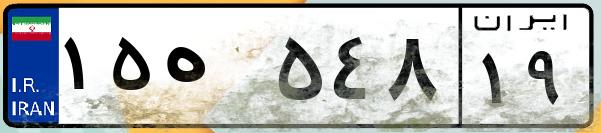1: (57, 26, 110, 100), (475, 38, 525, 113)
4: (330, 28, 385, 110)
5: (270, 28, 330, 110), (110, 28, 158, 98)
8: (385, 28, 445, 110)
9: (525, 38, 570, 115)
ه: (158, 20, 270, 120)
